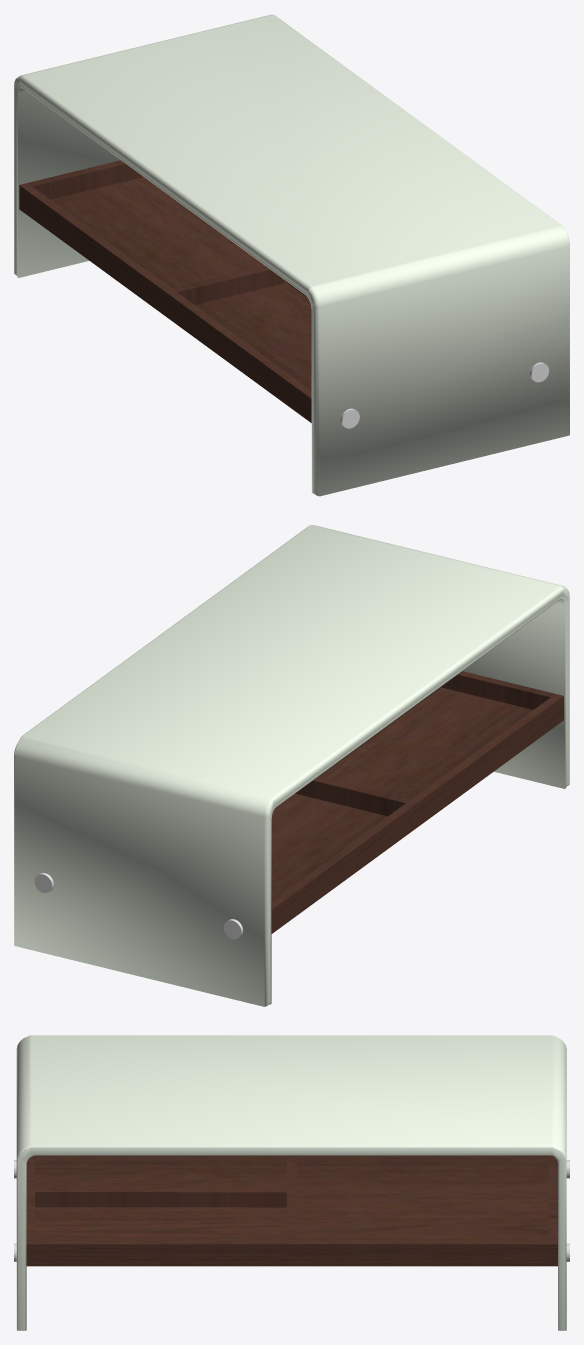
The model's file is ND-0586__Corina_mesa7_16.glb.
The picture shows the model from 3 angles, top to bottom: view 1: azimuth 30°, elevation 25°; view 2: azimuth 150°, elevation 25°; view 3: azimuth 270°, elevation 25°; orthographic projection. The views are drawn at different scales.
Parts seen in each view (by area): view 1: Cube, Cube.001; view 2: Cube, Cube.001; view 3: Cube, Cube.001.
Part boxes in pixels (left/top/right/bottom): Cube: left=14, top=14, right=569, bottom=496; Cube.001: left=19, top=160, right=311, bottom=422; Cube: left=14, top=525, right=569, bottom=1006; Cube.001: left=271, top=671, right=563, bottom=933; Cube: left=16, top=1035, right=566, bottom=1330; Cube.001: left=26, top=1155, right=557, bottom=1266.
Bounding box in the file's own units: 2.9 × 2.22 × 6.05.
6 materials, 1 textured.
